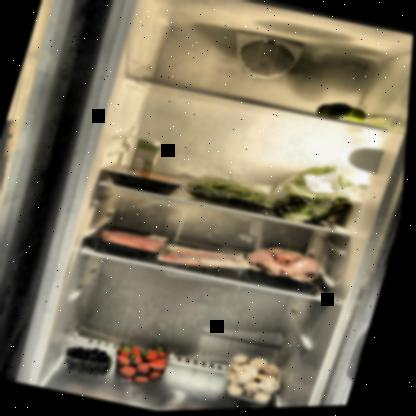beef: (113, 161, 188, 195)
blueberries: (64, 339, 121, 382)
chicken: (237, 238, 338, 301)
green_beans: (181, 167, 284, 218)
ground_beef: (97, 224, 172, 263)
heavy_cream: (129, 135, 165, 184)
lime: (315, 98, 374, 131)
mushrooms: (217, 351, 302, 409)
spinach: (269, 154, 373, 238)
strawberries: (110, 334, 184, 394)
